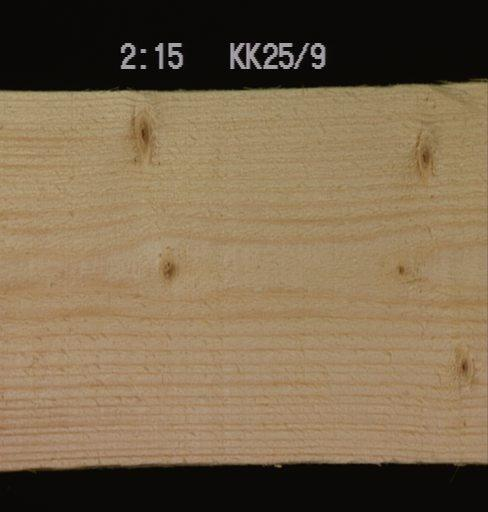small_knot: (410, 124, 440, 182), (450, 342, 479, 387), (390, 257, 410, 280)
sound_knot: (125, 104, 160, 164), (155, 251, 180, 284)
